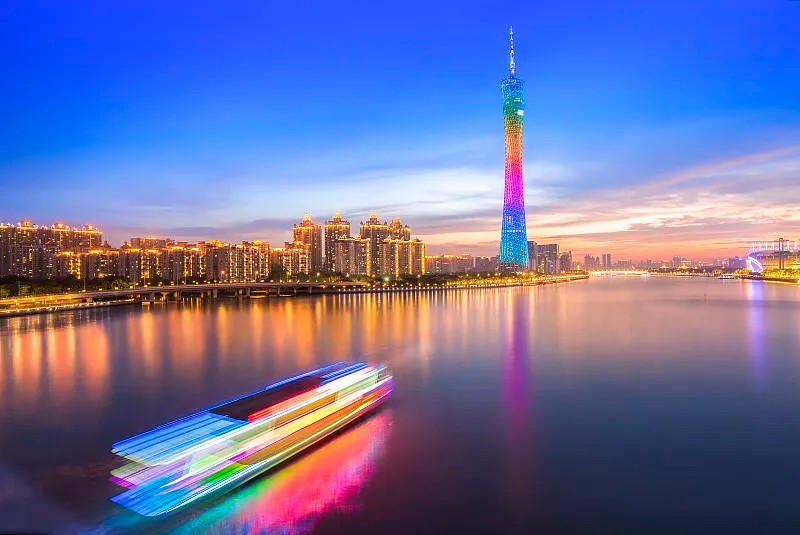Canton: (498, 21, 532, 271)
